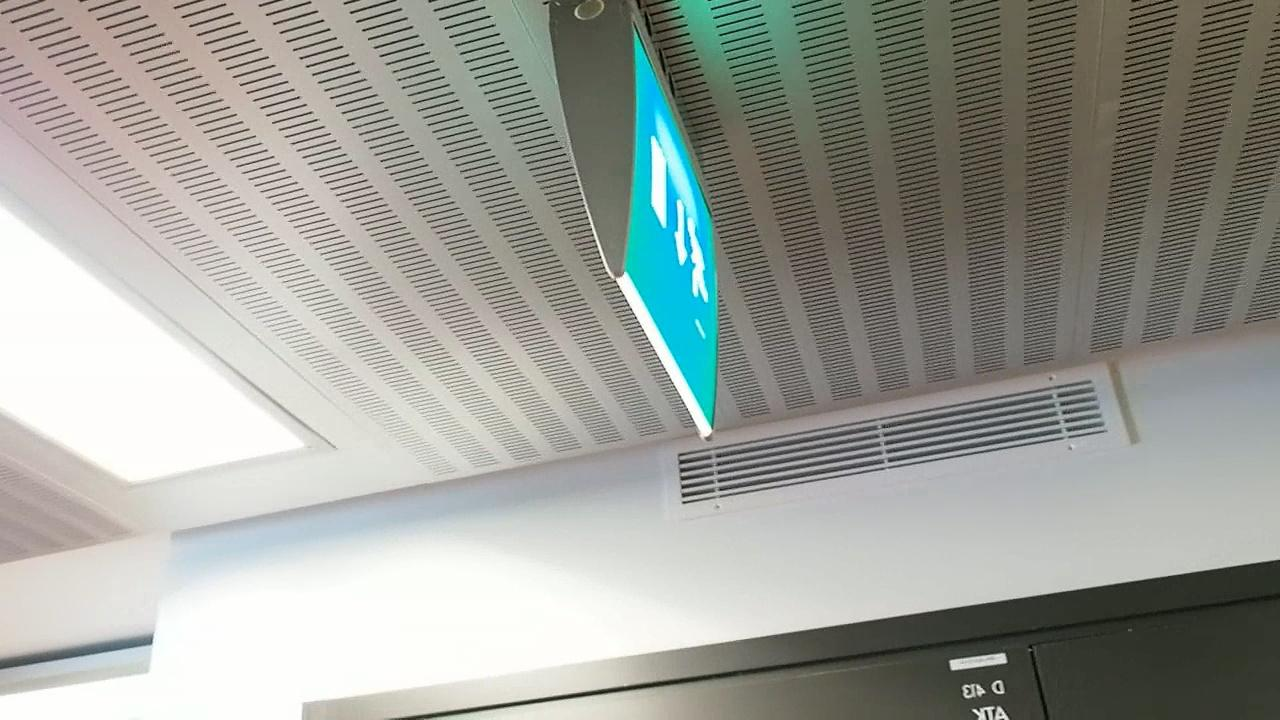exit: (626, 129, 729, 363)
